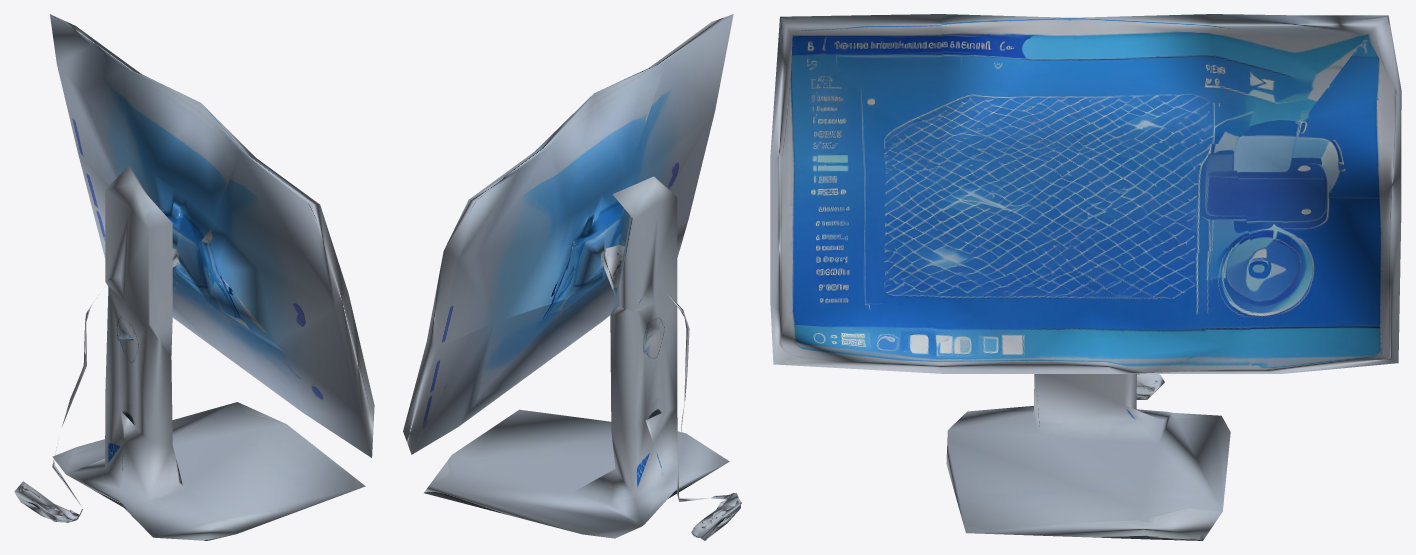
Rendered from monitor-screen.glb.
3 views of the same model, side by side, from view 1: azimuth 30°, elevation 25°; view 2: azimuth 150°, elevation 25°; view 3: azimuth 270°, elevation 25° (orthographic). The views are drawn at different scales.
Visible parts, largest first — view 1: tripo_node_85812be3-e2ae-44a1-9f38-3a6110c1b1cd; view 2: tripo_node_85812be3-e2ae-44a1-9f38-3a6110c1b1cd; view 3: tripo_node_85812be3-e2ae-44a1-9f38-3a6110c1b1cd.
Part boxes in pixels (<box>): tripo_node_85812be3-e2ae-44a1-9f38-3a6110c1b1cd: <box>14,14,374,540</box>; tripo_node_85812be3-e2ae-44a1-9f38-3a6110c1b1cd: <box>403,14,741,540</box>; tripo_node_85812be3-e2ae-44a1-9f38-3a6110c1b1cd: <box>770,14,1401,540</box>.
Size of the model in its own units: 0.5829 by 0.8386 by 0.9983.
Materials: 1 (1 with a texture image).
